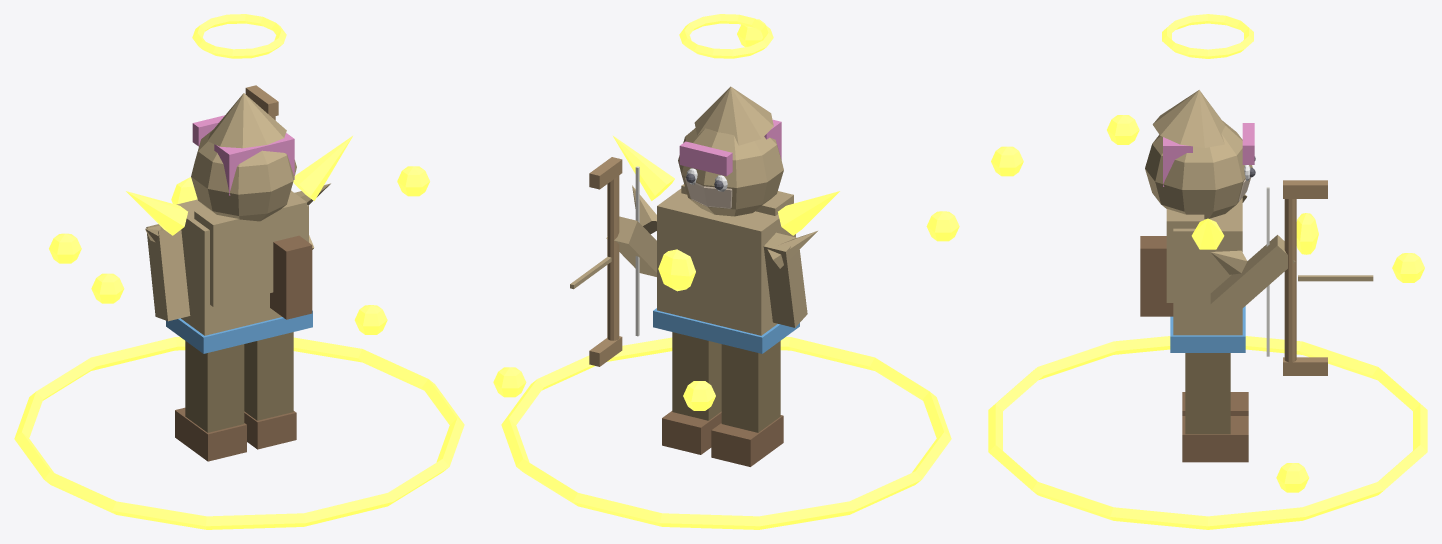
File: evolved_archers.glb
3 renders of one model, left to right at view 1: azimuth 30°, elevation 25°; view 2: azimuth 150°, elevation 25°; view 3: azimuth 270°, elevation 25°, orthographic.
Visible parts, largest first — view 1: evolved_archers; view 2: evolved_archers; view 3: evolved_archers.
Part boxes in pixels (x1,y1,x2,y2): evolved_archers: (14, 14, 464, 529); evolved_archers: (493, 14, 959, 529); evolved_archers: (988, 14, 1427, 529).
Size of the model in its own units: 3.3 by 3.3 by 3.22.
